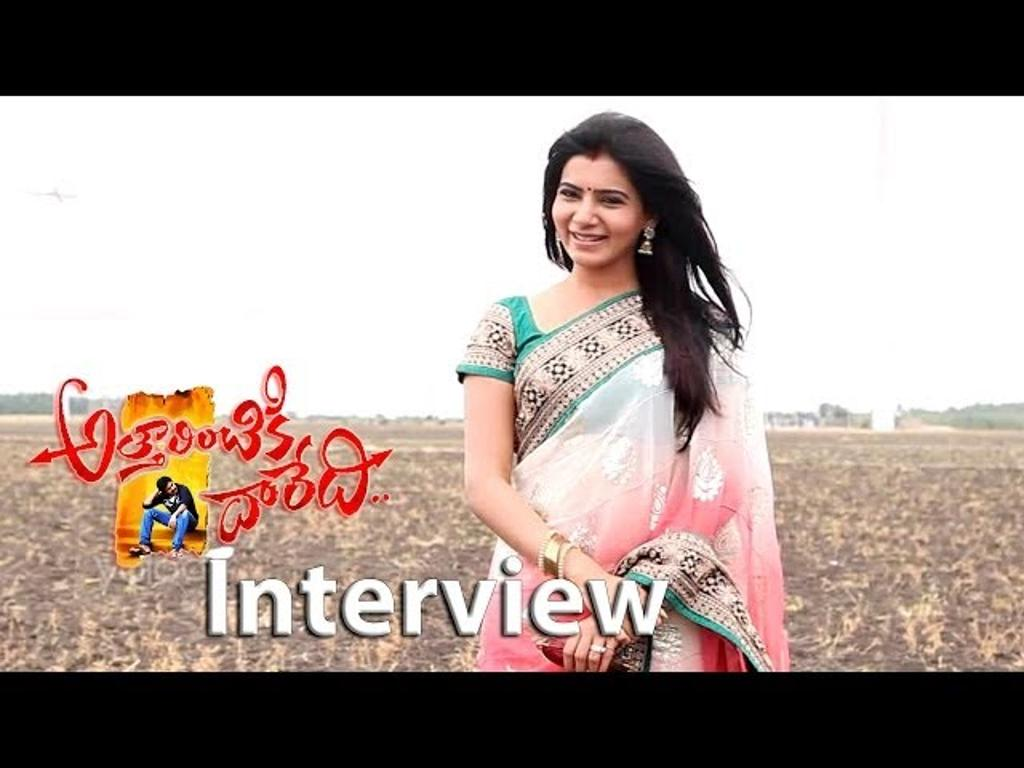face: (552, 146, 632, 262)
